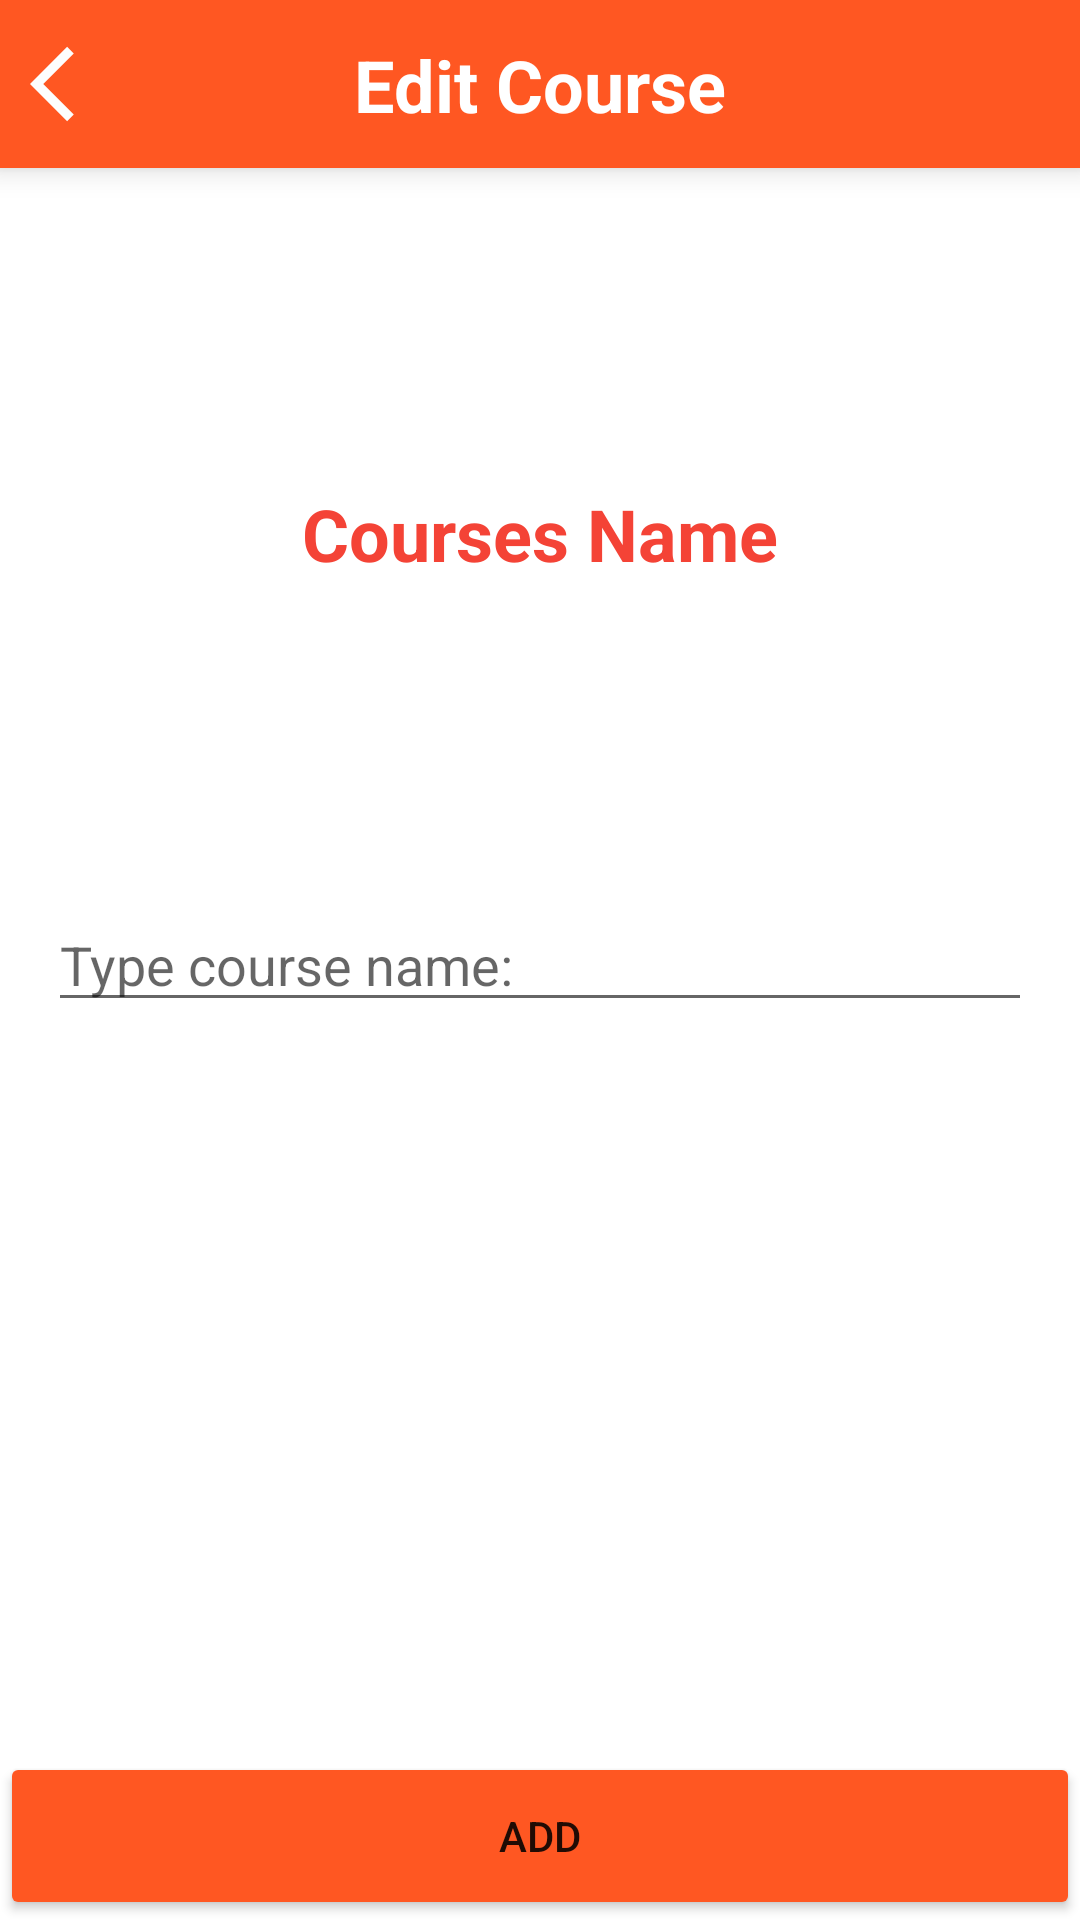

Icons on this 1080x1920 Android screen, each with its box as (x1, y1, x2, y2):
arrow back: (30, 47, 74, 121)
